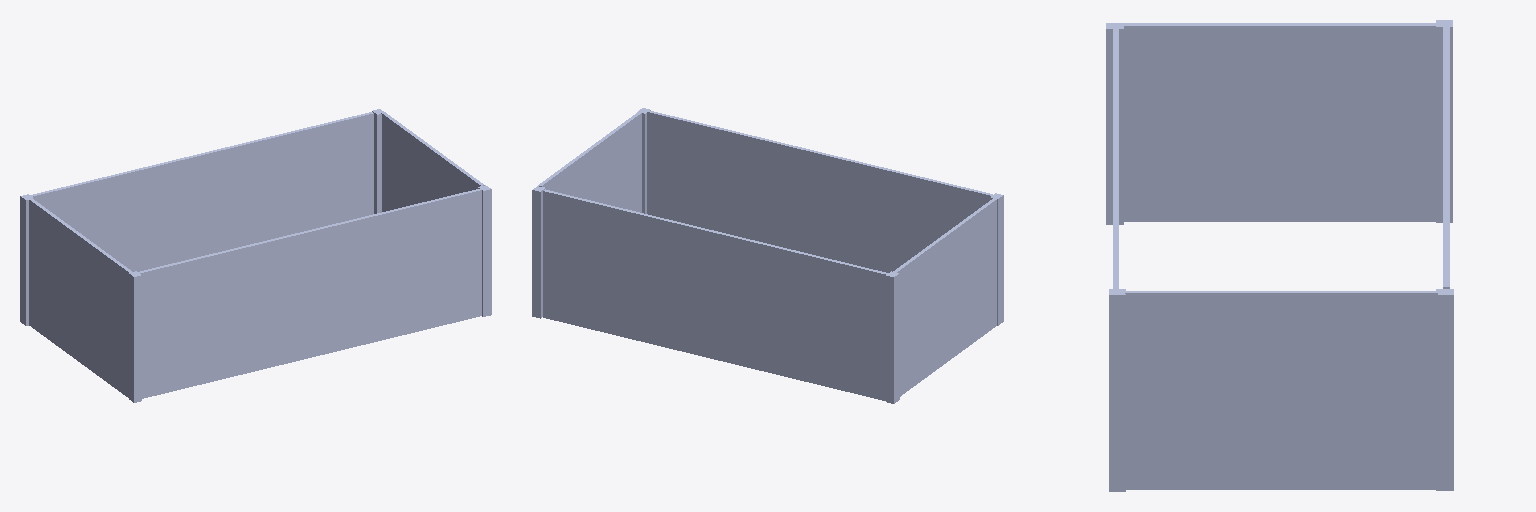
URDF robot description (GreenHouse.SLDASM):
<?xml version="1.0" encoding="utf-8"?>
<!-- This URDF was automatically created by SolidWorks to URDF Exporter! Originally created by [author] ([email redacted]) 
     Commit Version: 1.6.0-4-g7f85cfe  Build Version: 1.6.7995.38578
     For more information, please see http://wiki.ros.org/sw_urdf_exporter -->
<robot
  name="GreenHouse.SLDASM">
  <link
    name="base_link">
    <inertial>
      <origin
        xyz="0 0 0"
        rpy="0 0 0" />
      <mass
        value="34767" />
      <inertia
        ixx="119160"
        ixy="-4.538E-12"
        ixz="1.4863E-13"
        iyy="404690"
        iyz="-8.618E-12"
        izz="430390" />
    </inertial>
    <visual>
      <origin
        xyz="0 0 0"
        rpy="0 0 0" />
      <geometry>
        <mesh
          filename="package://GreenHouse.SLDASM/meshes/base_link.STL" />
      </geometry>
      <material
        name="1">
        <color
          rgba="0.79216 0.81961 0.93333 1" />
      </material>
    </visual>
    <collision>
      <origin
        xyz="0 0 0"
        rpy="0 0 0" />
      <geometry>
        <mesh
          filename="package://GreenHouse.SLDASM/meshes/base_link.STL" />
      </geometry>
    </collision>
  </link>
</robot>

--- Facts derived from the render (not from the file) ---
Views: 3 orthographic renders of the robot side by side, from view 1: azimuth 30°, elevation 25°; view 2: azimuth 150°, elevation 25°; view 3: azimuth 270°, elevation 25°.
Robot: GreenHouse.SLDASM — 1 links, 0 joints (none); root link base_link; default pose: all joints at 0.
Links seen in each view (by area): view 1: base_link; view 2: base_link; view 3: base_link.
Link boxes in pixels (x1,y1,x2,y2): base_link: [20, 109, 491, 402]; base_link: [532, 108, 1003, 403]; base_link: [1106, 20, 1453, 491].
Size in the robot's own frame: 14.96 by 8.01 by 5.03 metres.
Meshes: 1 distinct files referenced, 1 mesh visuals loaded (1 binary STL).